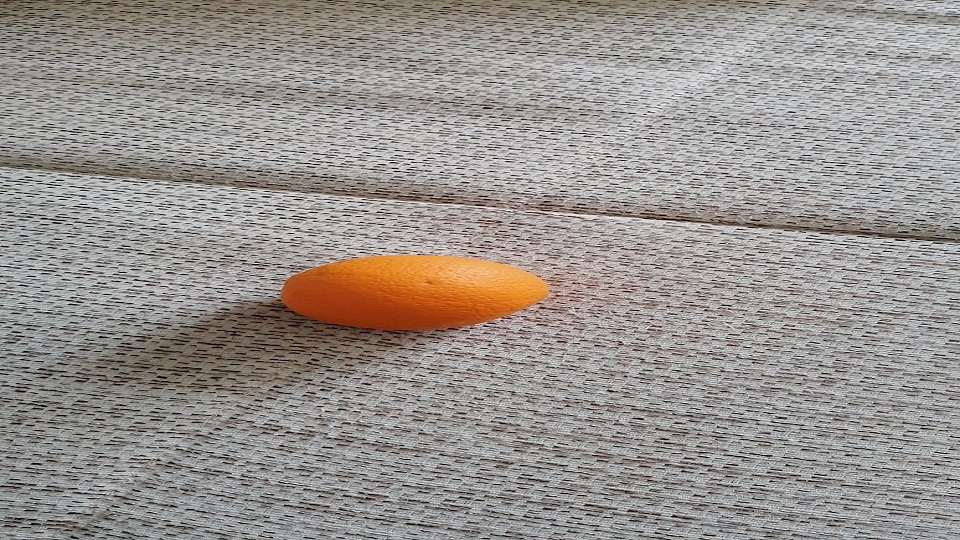portakal: (279, 252, 552, 332)
